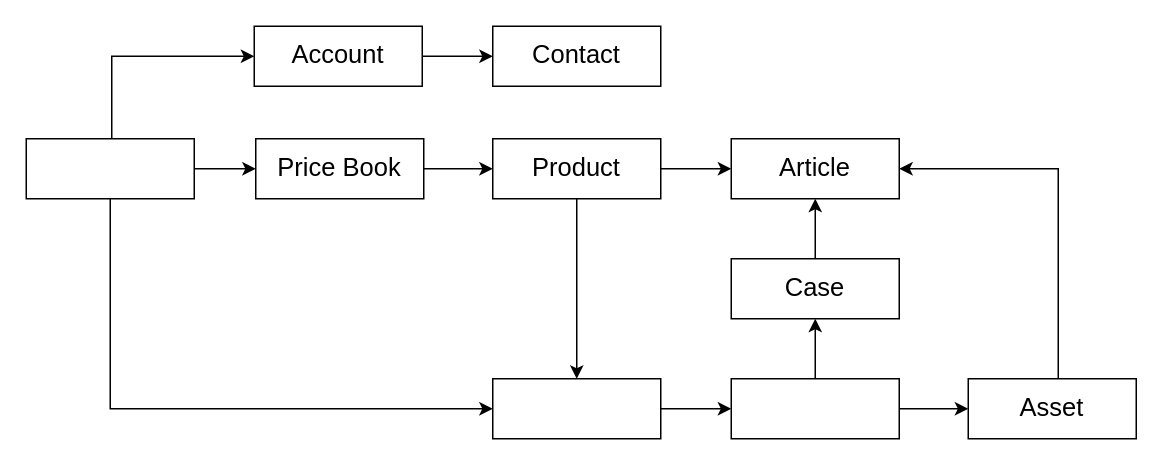
This 1163x465 diagram has some shape labels left out. The centre of each missing label's shape, as x and y in pixels:
"Lead" belongs at pixel 814 408.
"Opportunity" belongs at pixel 109 168.
"Quote" belongs at pixel 576 408.
